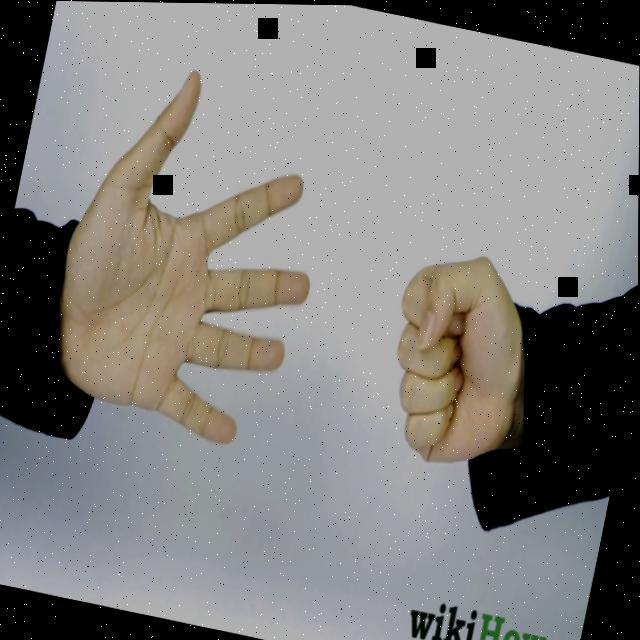Paper: (35, 47, 349, 455)
Rock: (371, 240, 546, 476)
